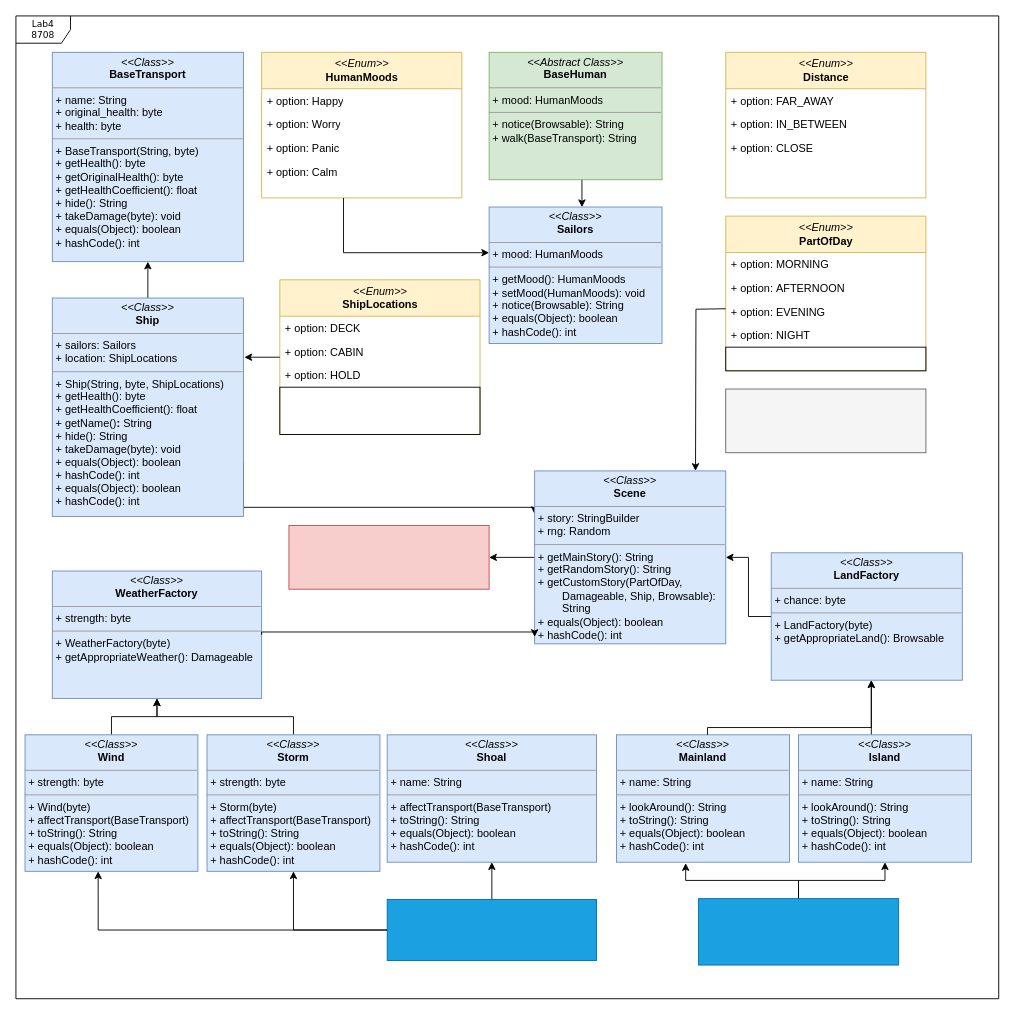
Some shapes in this 1015 by 1015 pixel diagram are drawn without their labels. Here are the shapes that lost their labels. From the top down, the centre of each, then its label:
At point (825, 358): "+ getRandom(): PartOfDay".
At point (379, 410): "+ getRandom(): ShipLocations + toString(): String".
At point (825, 420): "<<Exception >> ShipDestroyedException + getMessage(): String".
At point (388, 557): "<<Class >> App + main(String[] args): void".
At point (491, 930): "<<Interface>> Damageable + affectTransport(BaseTransport): void".
At point (798, 931): "<<Interface>> Browsable + lookAround(): String".
